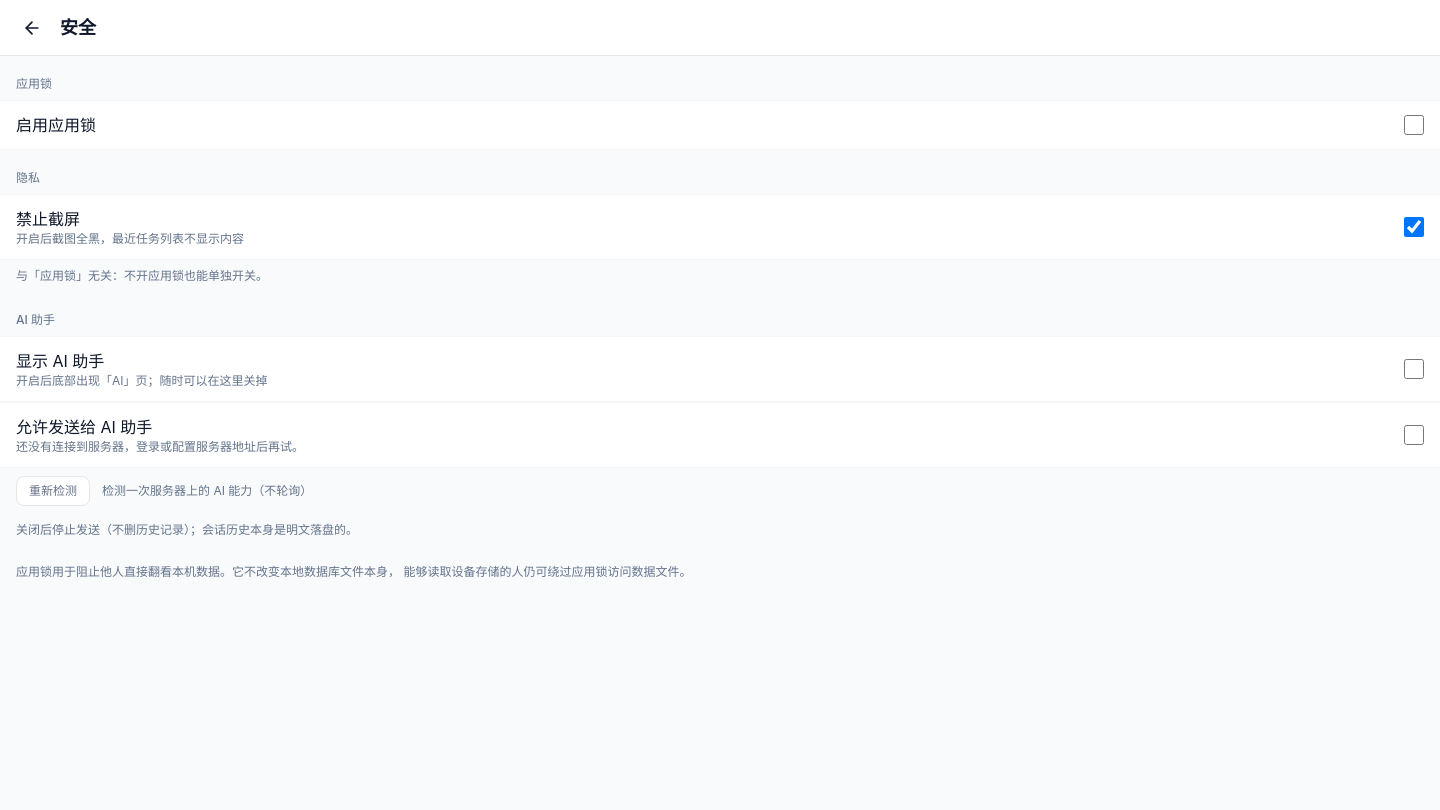
Scenario: SecurityPage › 打开总开关弹出设置锁对话框
Click the checkbox with test id "lock-enabled" at (1414, 125), box x1=1404 y1=115 x2=1424 y2=135
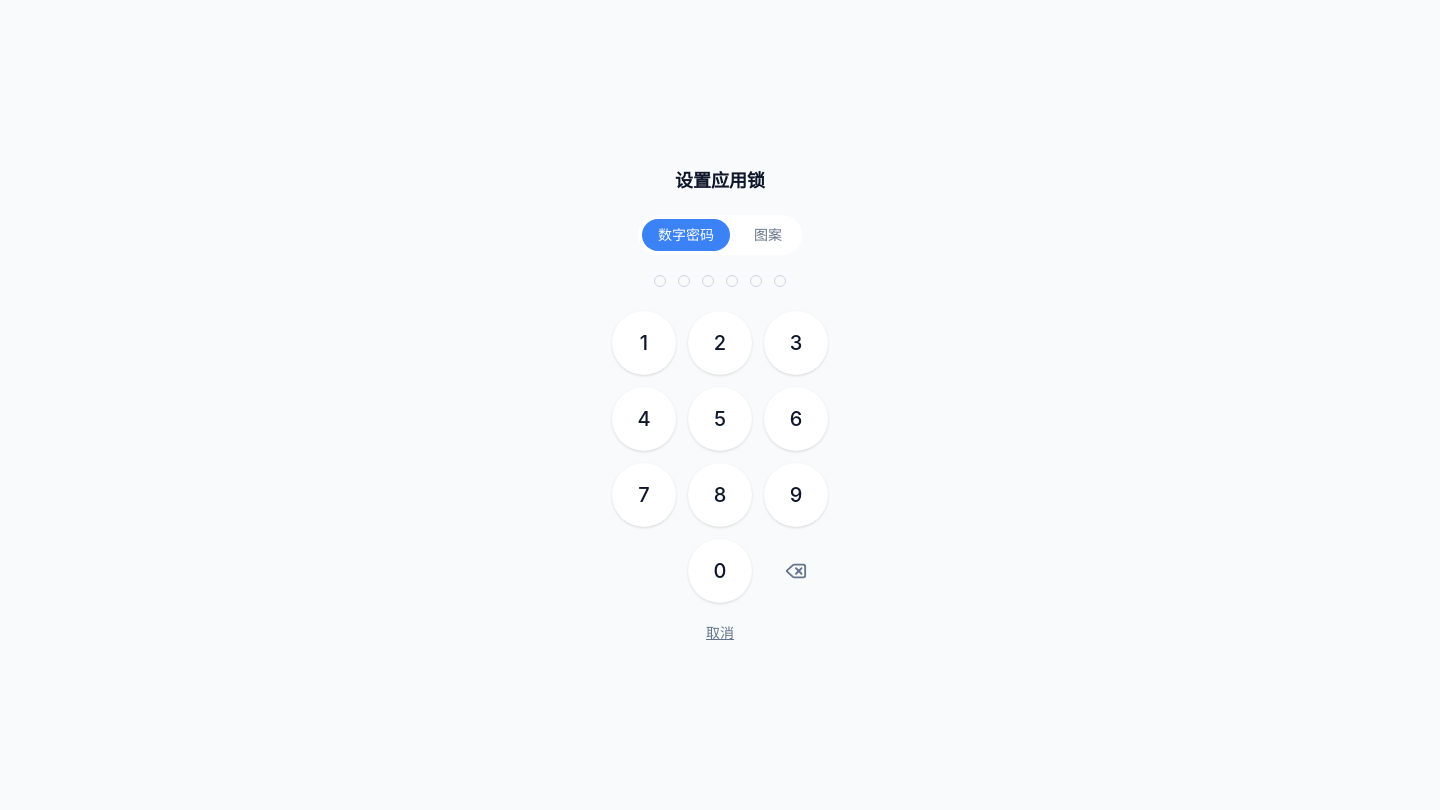
Expected: the dialog with test id "set-lock-dialog" is shown
